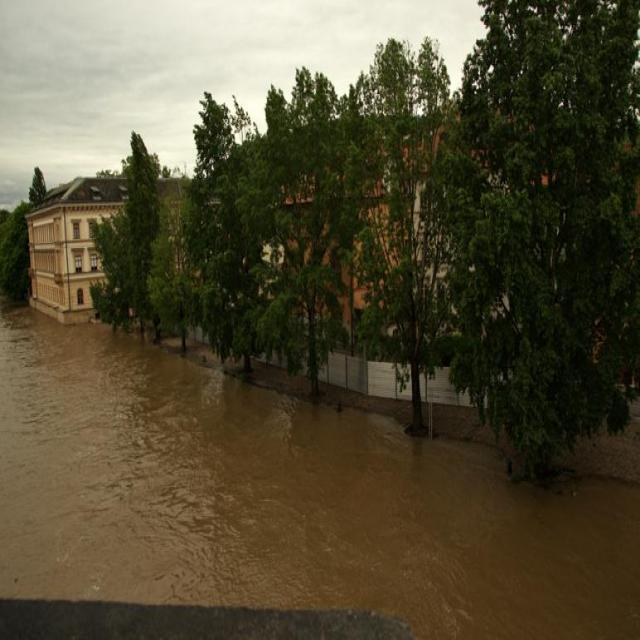flood: (1, 289, 640, 640)
